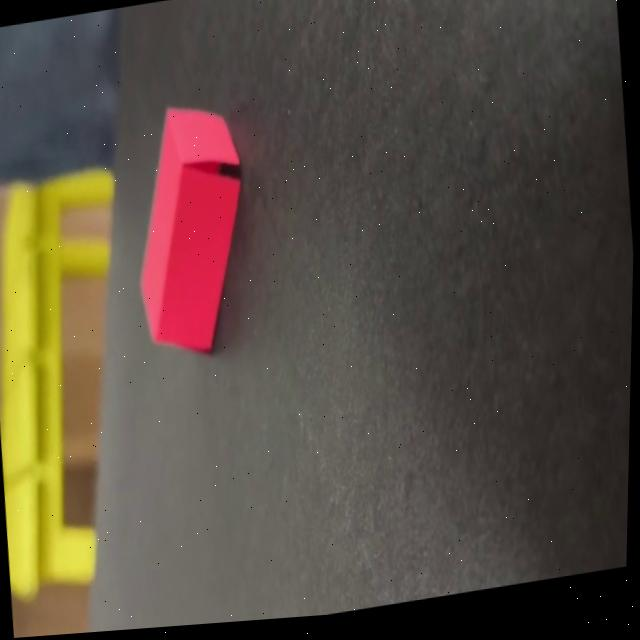red block: (120, 92, 258, 366)
